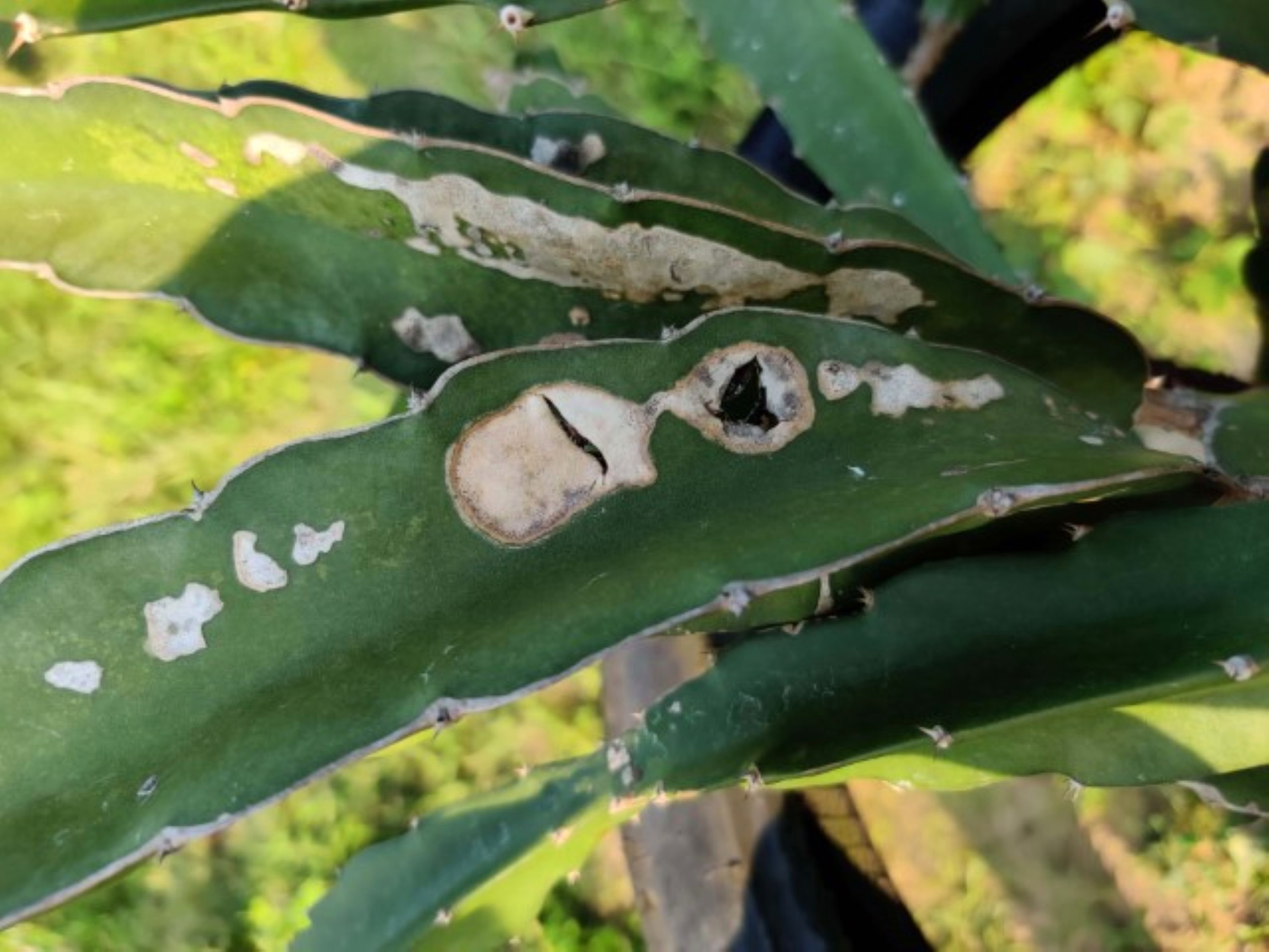stemcanker: (44, 89, 1017, 702)
